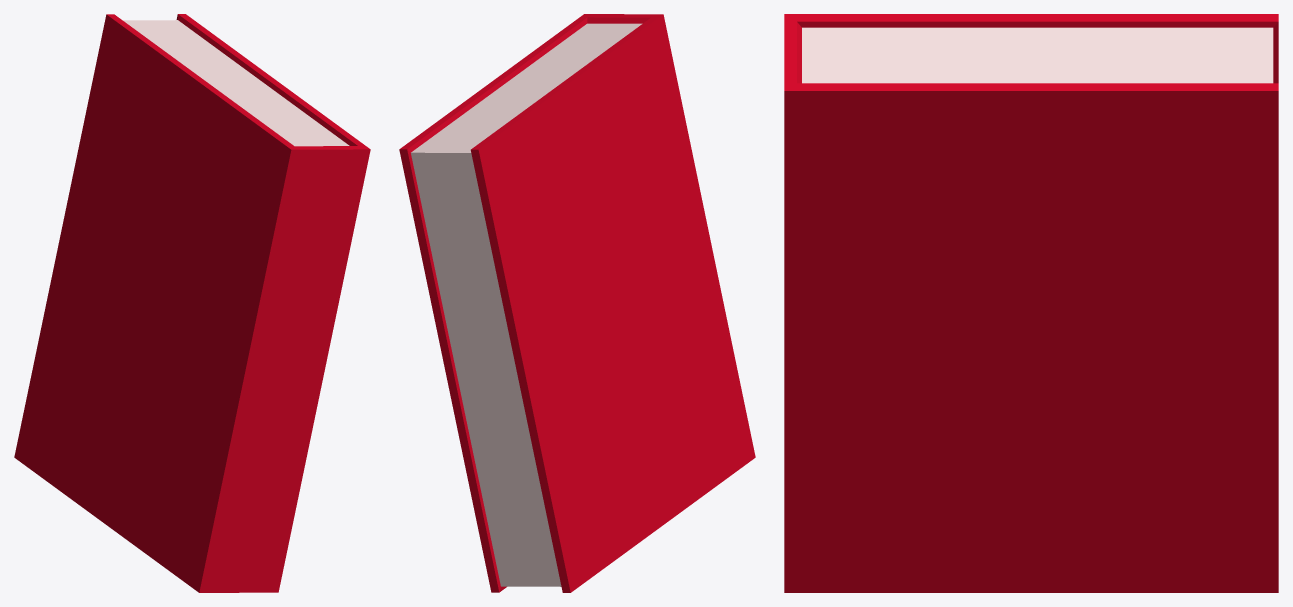
The model's file is Living_Room_book4.fbx.
The picture shows the model from 3 angles, left to right: view 1: azimuth 30°, elevation 25°; view 2: azimuth 150°, elevation 25°; view 3: azimuth 270°, elevation 25°; orthographic projection. The views are drawn at different scales.
Visible parts, largest first — view 1: Living_Room_book4; view 2: Living_Room_book4; view 3: Living_Room_book4.
Boxes of the visible parts, bbox=[...] form: Living_Room_book4: bbox=[14, 14, 370, 592]; Living_Room_book4: bbox=[399, 14, 755, 592]; Living_Room_book4: bbox=[784, 14, 1278, 592].
Size of the model in its own units: 10.25 by 19.16 by 25.13.
